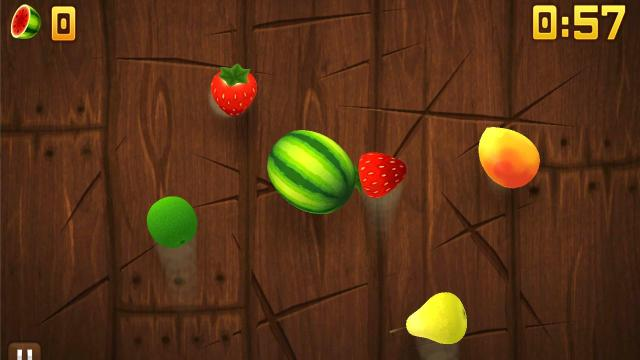fruit: (268, 131, 359, 214), (477, 126, 541, 188), (407, 292, 468, 344), (146, 196, 198, 248), (212, 62, 258, 116), (358, 150, 408, 198)
ignore: (10, 3, 42, 41)
